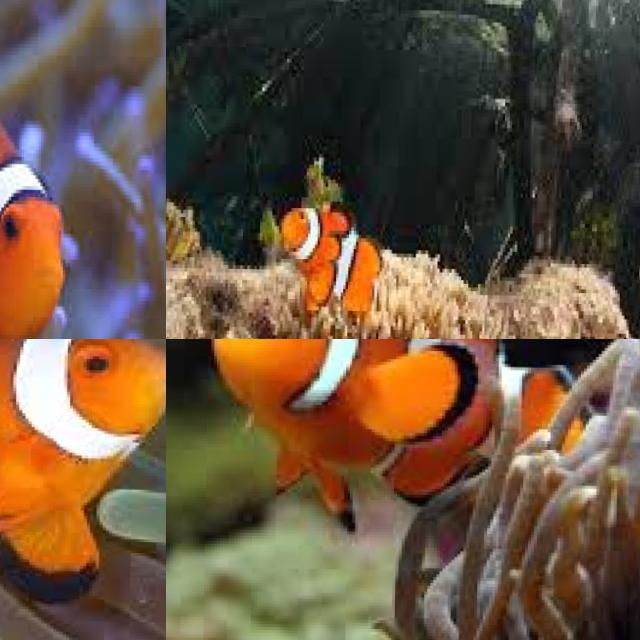Amphiprion-percula: (181, 339, 626, 554), (0, 9, 166, 339), (0, 339, 166, 640), (0, 339, 166, 459), (274, 180, 384, 327)
